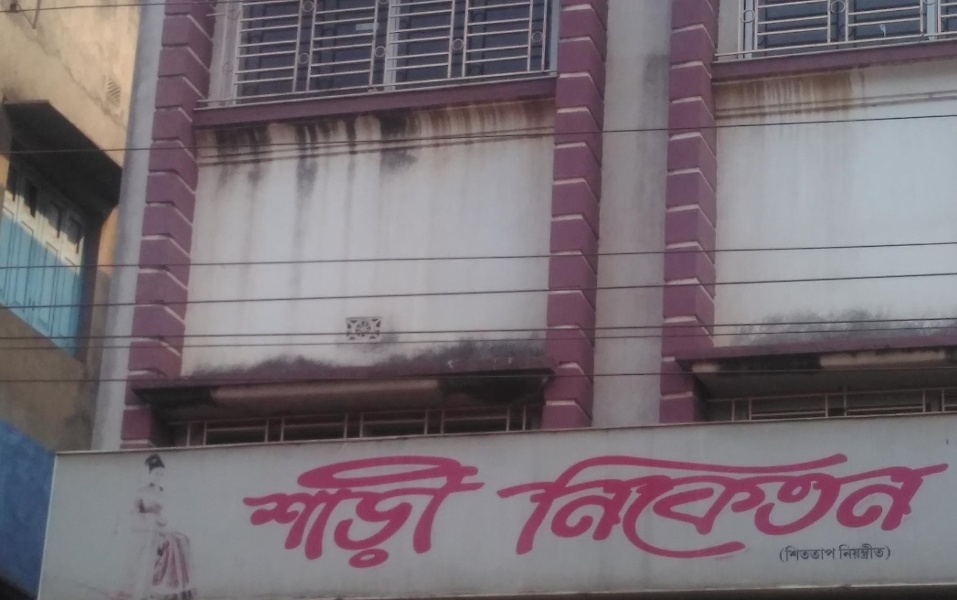text: (241, 448, 256, 578), (257, 448, 272, 578), (273, 448, 288, 578), (289, 448, 304, 578), (305, 448, 320, 578), (321, 448, 336, 578), (337, 448, 352, 578), (353, 448, 368, 578), (369, 448, 384, 578), (385, 448, 400, 578), (401, 448, 416, 578), (417, 448, 432, 578), (433, 448, 448, 578), (449, 448, 464, 578), (465, 448, 480, 578), (513, 448, 528, 560), (529, 448, 544, 560), (545, 448, 560, 560), (561, 448, 576, 560), (577, 448, 592, 560), (593, 448, 608, 560), (609, 448, 624, 560), (625, 448, 640, 560), (641, 448, 656, 560), (657, 448, 672, 560), (673, 448, 688, 560), (689, 448, 704, 560), (705, 448, 720, 560), (721, 448, 736, 560), (737, 448, 752, 560), (753, 448, 768, 560), (769, 448, 784, 560), (785, 448, 800, 560), (801, 448, 816, 560), (817, 448, 832, 560), (833, 448, 848, 560), (849, 448, 864, 560), (865, 448, 880, 560), (881, 448, 896, 560), (897, 448, 912, 560), (913, 448, 928, 560), (929, 448, 944, 560), (481, 448, 493, 578), (501, 448, 512, 560), (945, 448, 954, 560), (785, 542, 800, 565), (801, 542, 816, 565), (817, 542, 832, 565), (849, 542, 864, 564), (865, 542, 880, 564), (881, 542, 893, 564), (837, 542, 848, 564), (833, 542, 839, 565), (780, 542, 784, 565)
